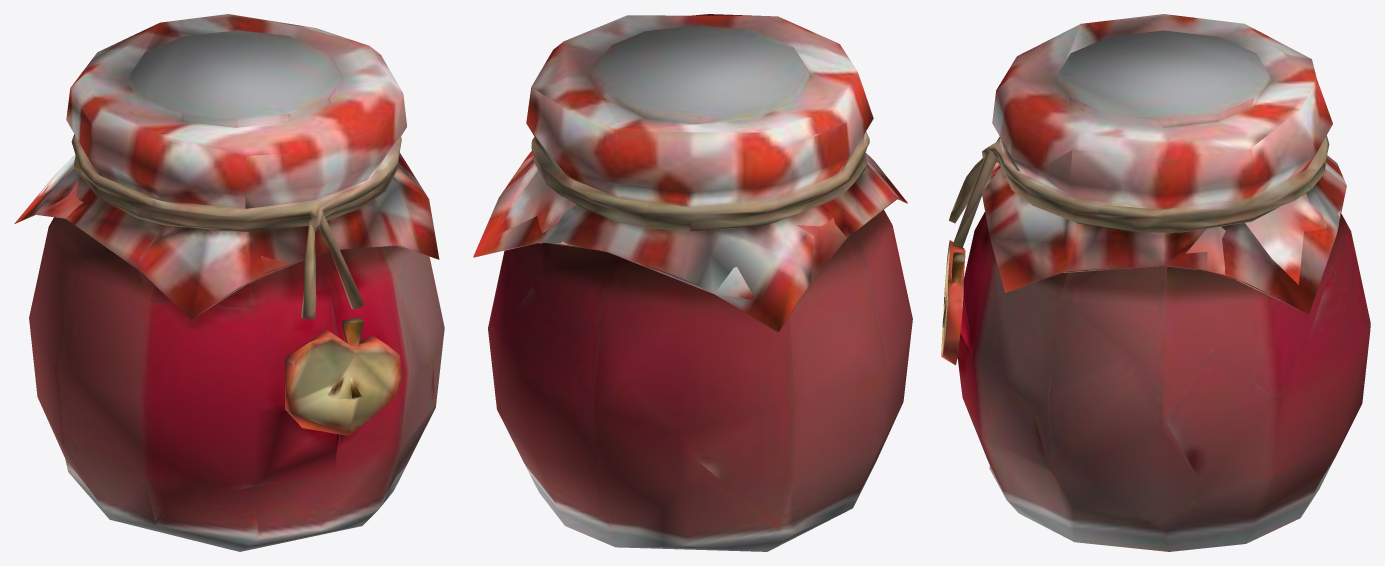
File: g_guojiang.glb
The picture shows the model from 3 angles, left to right: view 1: azimuth 30°, elevation 25°; view 2: azimuth 150°, elevation 25°; view 3: azimuth 270°, elevation 25°; orthographic projection. The views are drawn at different scales.
Visible parts, largest first — view 1: node_0; view 2: node_0; view 3: node_0.
Boxes of the visible parts, x1,y1,x2,y2 form: node_0: [14, 14, 444, 551]; node_0: [473, 14, 912, 551]; node_0: [941, 14, 1370, 551].
Bounding box in the file's own units: 0.9025 × 0.9767 × 0.9234.
1 material, 1 textured.
